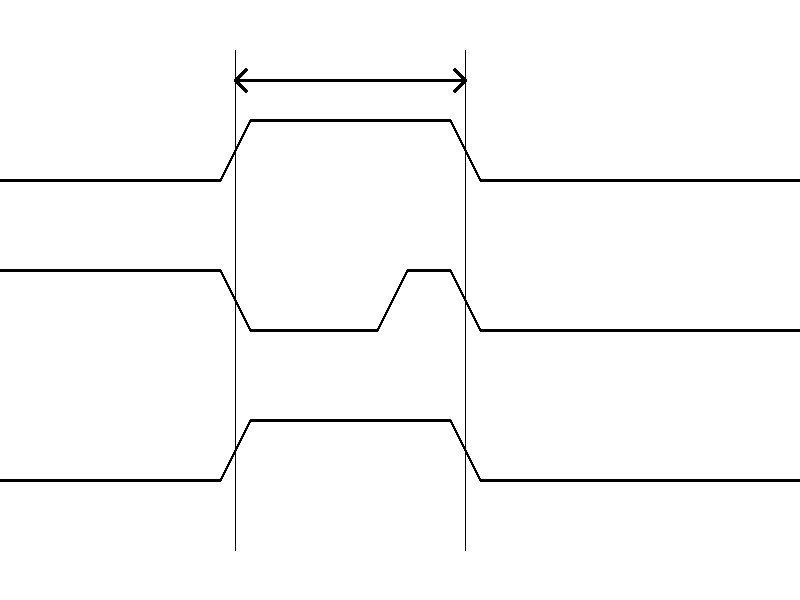double_arrow: (235, 65, 465, 95)
